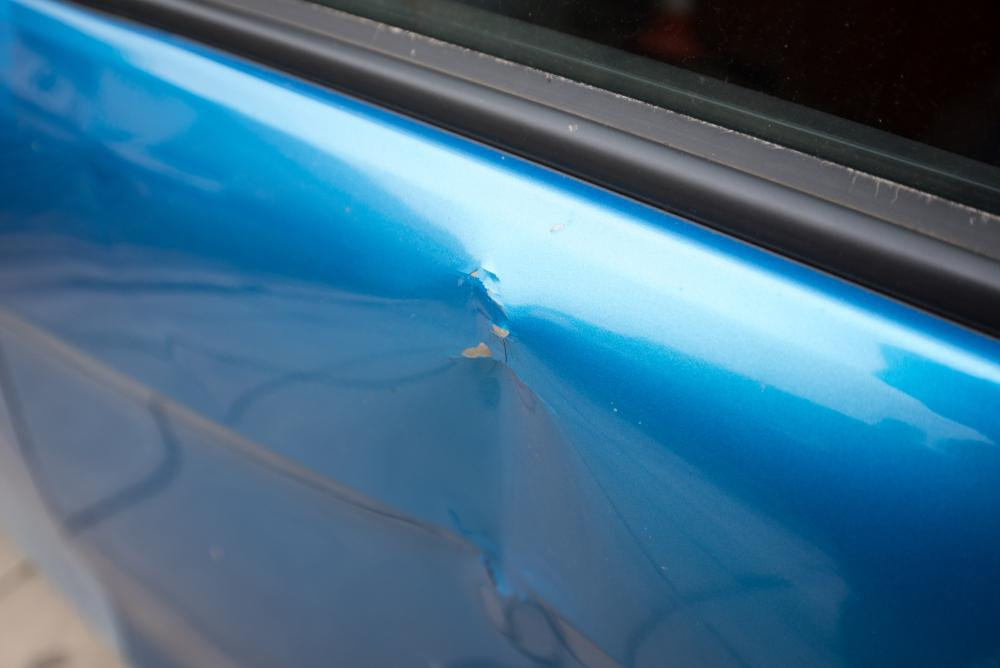dent: (385, 268, 584, 657)
